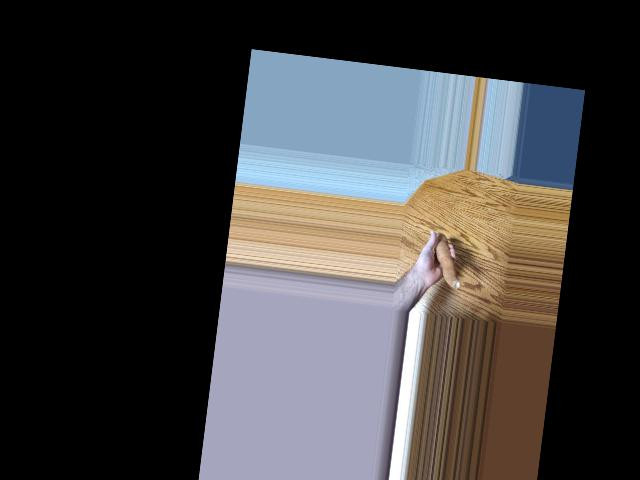sweet_potato: (429, 234, 465, 291)
